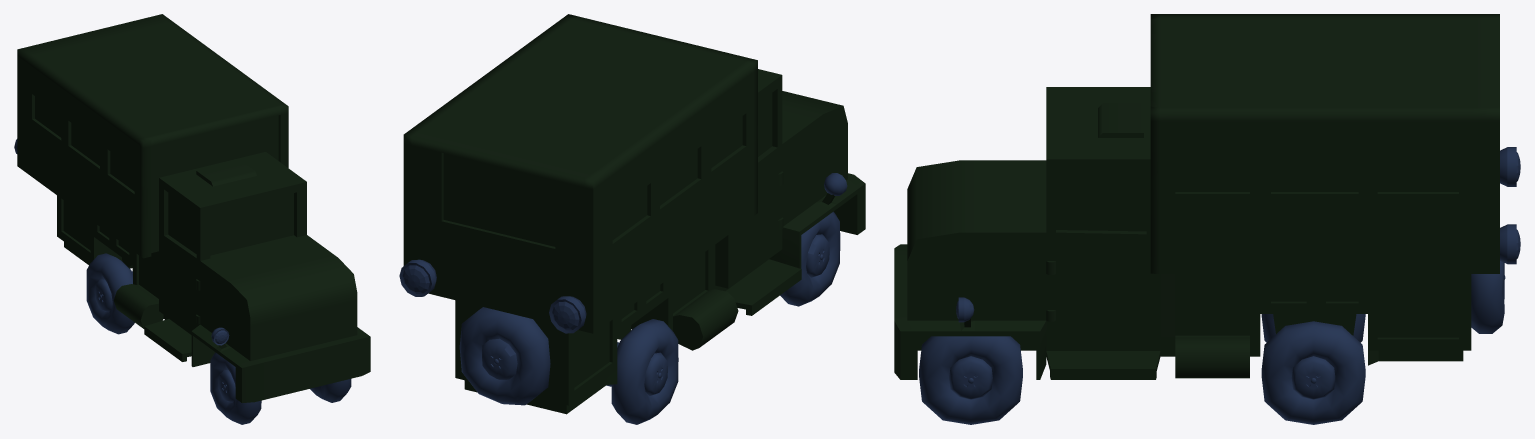
The model's file is Truck.obj.
The picture shows the model from 3 angles, left to right: view 1: azimuth 30°, elevation 25°; view 2: azimuth 150°, elevation 25°; view 3: azimuth 270°, elevation 25°; orthographic projection. The views are drawn at different scales.
Parts seen in each view (by area): view 1: Truck1:Truck, Truck1:Tires; view 2: Truck1:Truck, Truck1:Tires, Truck1:BackTire, Truck1:BrakeLights; view 3: Truck1:Truck, Truck1:Tires, Truck1:BackTire, Truck1:BrakeLights.
Part boxes in pixels (left/top/right/bottom): Truck1:Truck: left=17, top=14, right=370, bottom=402; Truck1:Tires: left=86, top=253, right=351, bottom=424; Truck1:Truck: left=403, top=14, right=865, bottom=414; Truck1:Tires: left=606, top=211, right=840, bottom=424; Truck1:BackTire: left=459, top=307, right=550, bottom=405; Truck1:BrakeLights: left=399, top=259, right=586, bottom=333; Truck1:Truck: left=894, top=14, right=1499, bottom=379; Truck1:Tires: left=919, top=314, right=1365, bottom=424; Truck1:BackTire: left=1471, top=261, right=1505, bottom=333; Truck1:BrakeLights: left=1500, top=147, right=1520, bottom=264.
Size of the model in its own units: 8.82 by 13.8 by 23.82.
